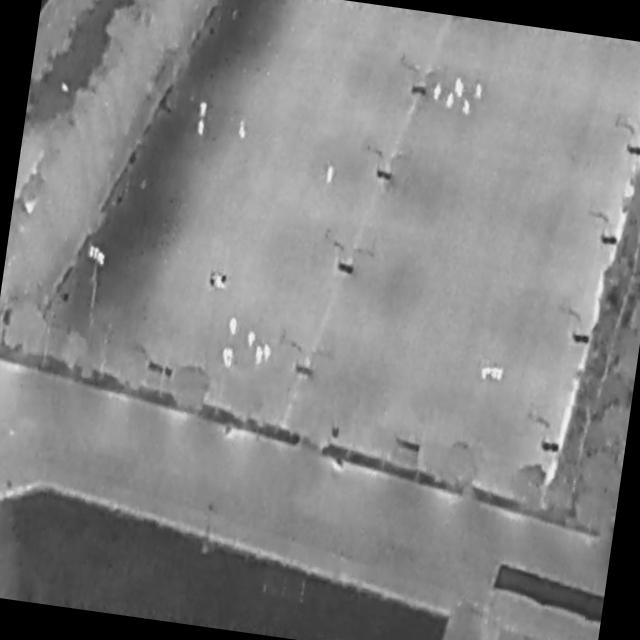person: (222, 348, 237, 369), (254, 347, 265, 368), (237, 121, 248, 141), (434, 83, 445, 103), (263, 345, 274, 365), (229, 319, 240, 338), (326, 166, 336, 186), (463, 100, 473, 118), (248, 331, 258, 348), (200, 103, 209, 120), (447, 93, 456, 110), (476, 85, 485, 102), (198, 120, 206, 137), (454, 78, 462, 94), (458, 83, 466, 99)
